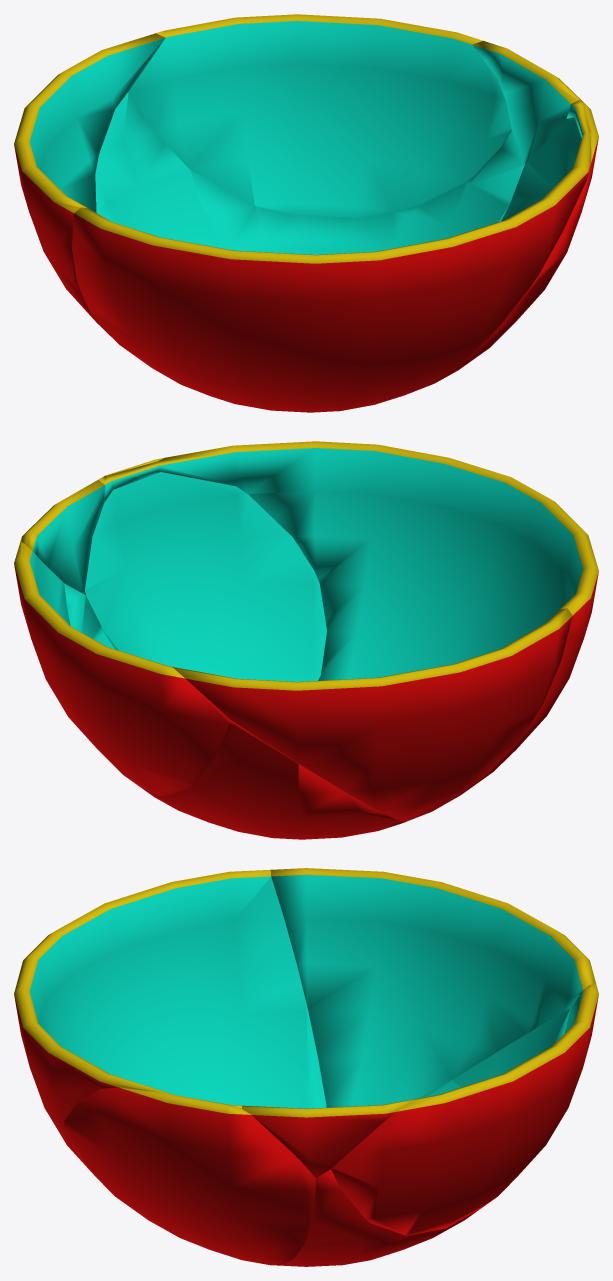
Rendered from sh_bowl_c001.fbx.
3 renders of one model, top to bottom at view 1: azimuth 30°, elevation 25°; view 2: azimuth 150°, elevation 25°; view 3: azimuth 270°, elevation 25°, orthographic.
Visible parts, largest first — view 1: shard_bowl_c.001, shard_bowl_c.004, shard_bowl_c, shard_bowl_c.002, shard_bowl_c.005, shard_bowl_c.003; view 2: shard_bowl_c.001, shard_bowl_c.005, shard_bowl_c.002, shard_bowl_c.004, shard_bowl_c, shard_bowl_c.003; view 3: shard_bowl_c.001, shard_bowl_c.002, shard_bowl_c.005, shard_bowl_c.004, shard_bowl_c, shard_bowl_c.003.
Part boxes in pixels (x1,y1,x2,y2): shard_bowl_c.001: (72, 100, 591, 412); shard_bowl_c.004: (128, 14, 511, 217); shard_bowl_c: (95, 92, 523, 254); shard_bowl_c.002: (14, 33, 165, 336); shard_bowl_c.005: (439, 100, 598, 380); shard_bowl_c.003: (472, 41, 581, 166); shard_bowl_c.001: (98, 441, 598, 802); shard_bowl_c.005: (85, 458, 326, 681); shard_bowl_c.002: (172, 608, 572, 821); shard_bowl_c.004: (14, 541, 230, 795); shard_bowl_c: (64, 583, 405, 839); shard_bowl_c.003: (20, 480, 104, 595); shard_bowl_c.001: (14, 869, 326, 1177); shard_bowl_c.002: (270, 868, 595, 1107); shard_bowl_c.005: (64, 1087, 315, 1265); shard_bowl_c.004: (331, 982, 598, 1235); shard_bowl_c: (279, 1008, 570, 1266); shard_bowl_c.003: (242, 1099, 413, 1178).
Bounding box in the file's own units: 17.13 × 7.69 × 17.13.
